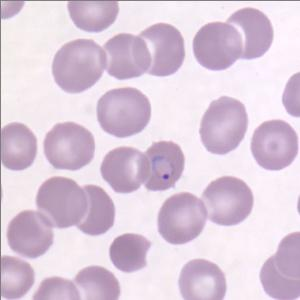Infected: (140, 139, 186, 191)
Uninfected: (50, 39, 107, 93), (198, 95, 247, 154), (132, 23, 185, 76), (36, 177, 87, 230), (98, 88, 150, 139), (224, 8, 274, 60), (199, 176, 253, 224), (65, 184, 114, 235), (157, 193, 206, 243), (250, 118, 297, 170), (44, 123, 97, 169), (5, 210, 53, 260), (192, 23, 242, 70), (99, 146, 150, 192), (102, 33, 153, 79), (178, 258, 225, 300), (259, 253, 300, 300), (67, 0, 121, 33), (108, 230, 149, 272), (0, 123, 37, 169), (72, 264, 118, 300), (0, 253, 34, 300), (273, 233, 300, 278)
